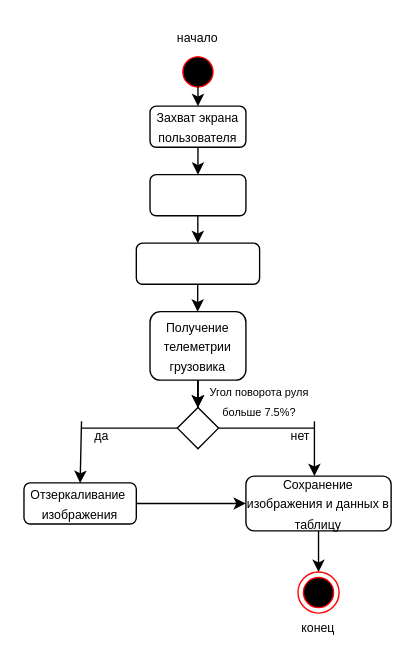
The diagram is 415 pixels wide and 663 high, and some of its shapes have lost their labels. The box of each missing label's shape, as (x1, y1, x2, y2) in pixels:
Вычисление угла поворота маршрута: (135, 242, 260, 284)
Обрезание изображения: (149, 173, 246, 216)
